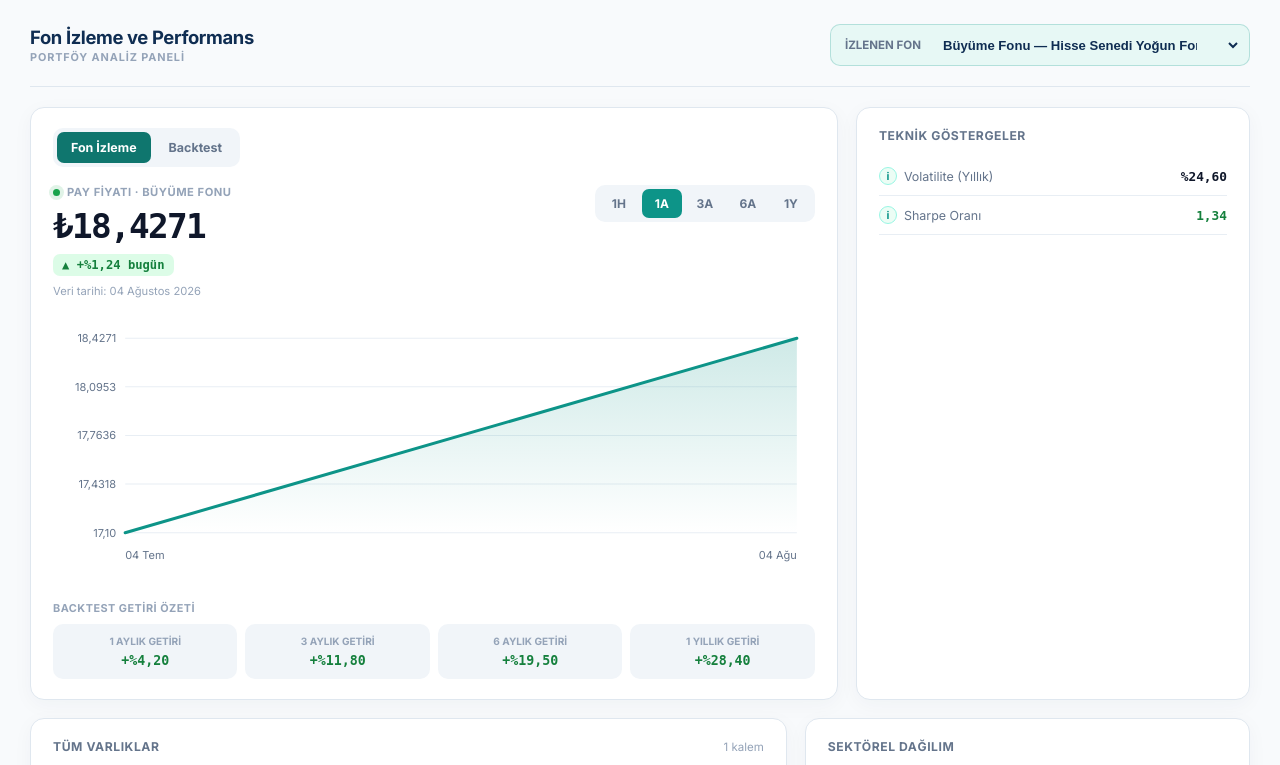
Test case: FundMonitoringView › aynı grafik üzerinde fon izleme ve backtest serileri arasında geçiş yapar
The width and height of the screenshot is (1280, 765).
Click the tab "Backtest": point(195, 148) [155,132,236,163]
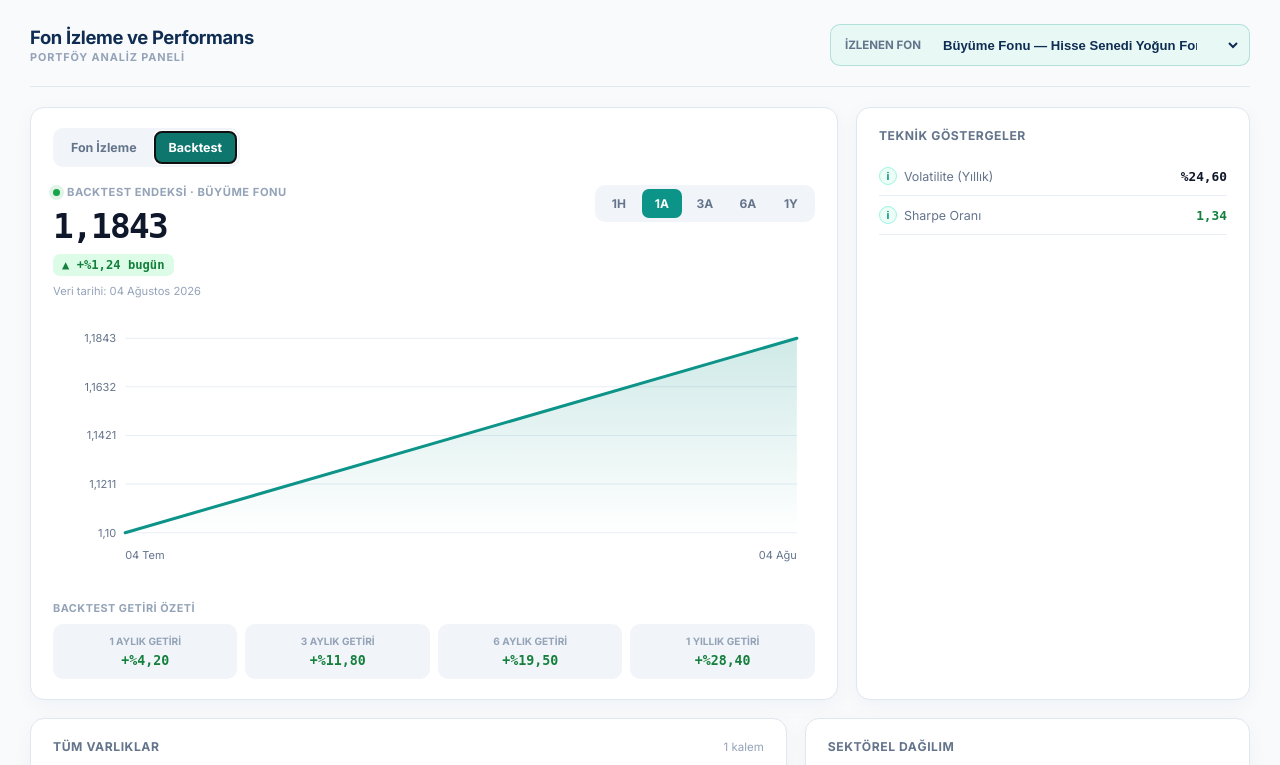
Now the picture named "Büyüme Fonu backtest endeksi değişim grafiği" is shown, box [53,308,815,583]
Now the text "1,1843" is shown, box [53,206,167,246]
